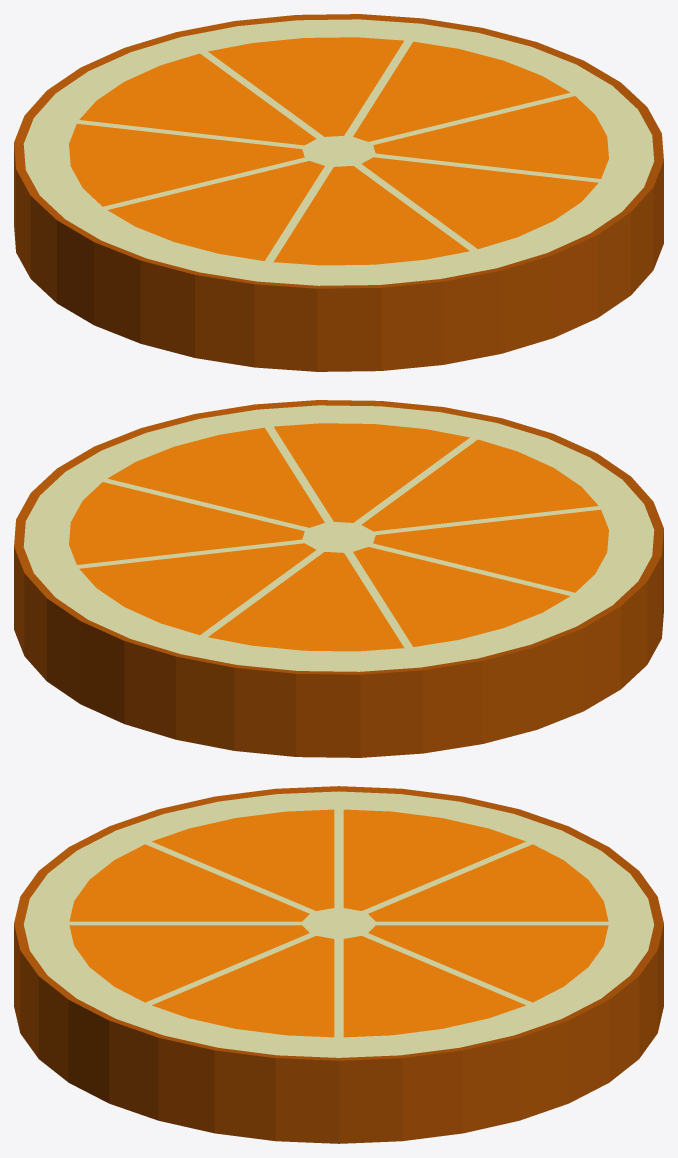
File: Orange.glb
3 views of the same model, one above another, from view 1: azimuth 30°, elevation 25°; view 2: azimuth 150°, elevation 25°; view 3: azimuth 270°, elevation 25° (orthographic).
Parts seen in each view (by area): view 1: Cylinder; view 2: Cylinder; view 3: Cylinder.
Part boxes in pixels (x1,y1,x2,y2): Cylinder: (14, 14, 663, 371); Cylinder: (14, 400, 663, 757); Cylinder: (14, 786, 663, 1143).
Bounding box in the file's own units: 2.29 × 0.323 × 2.29.
